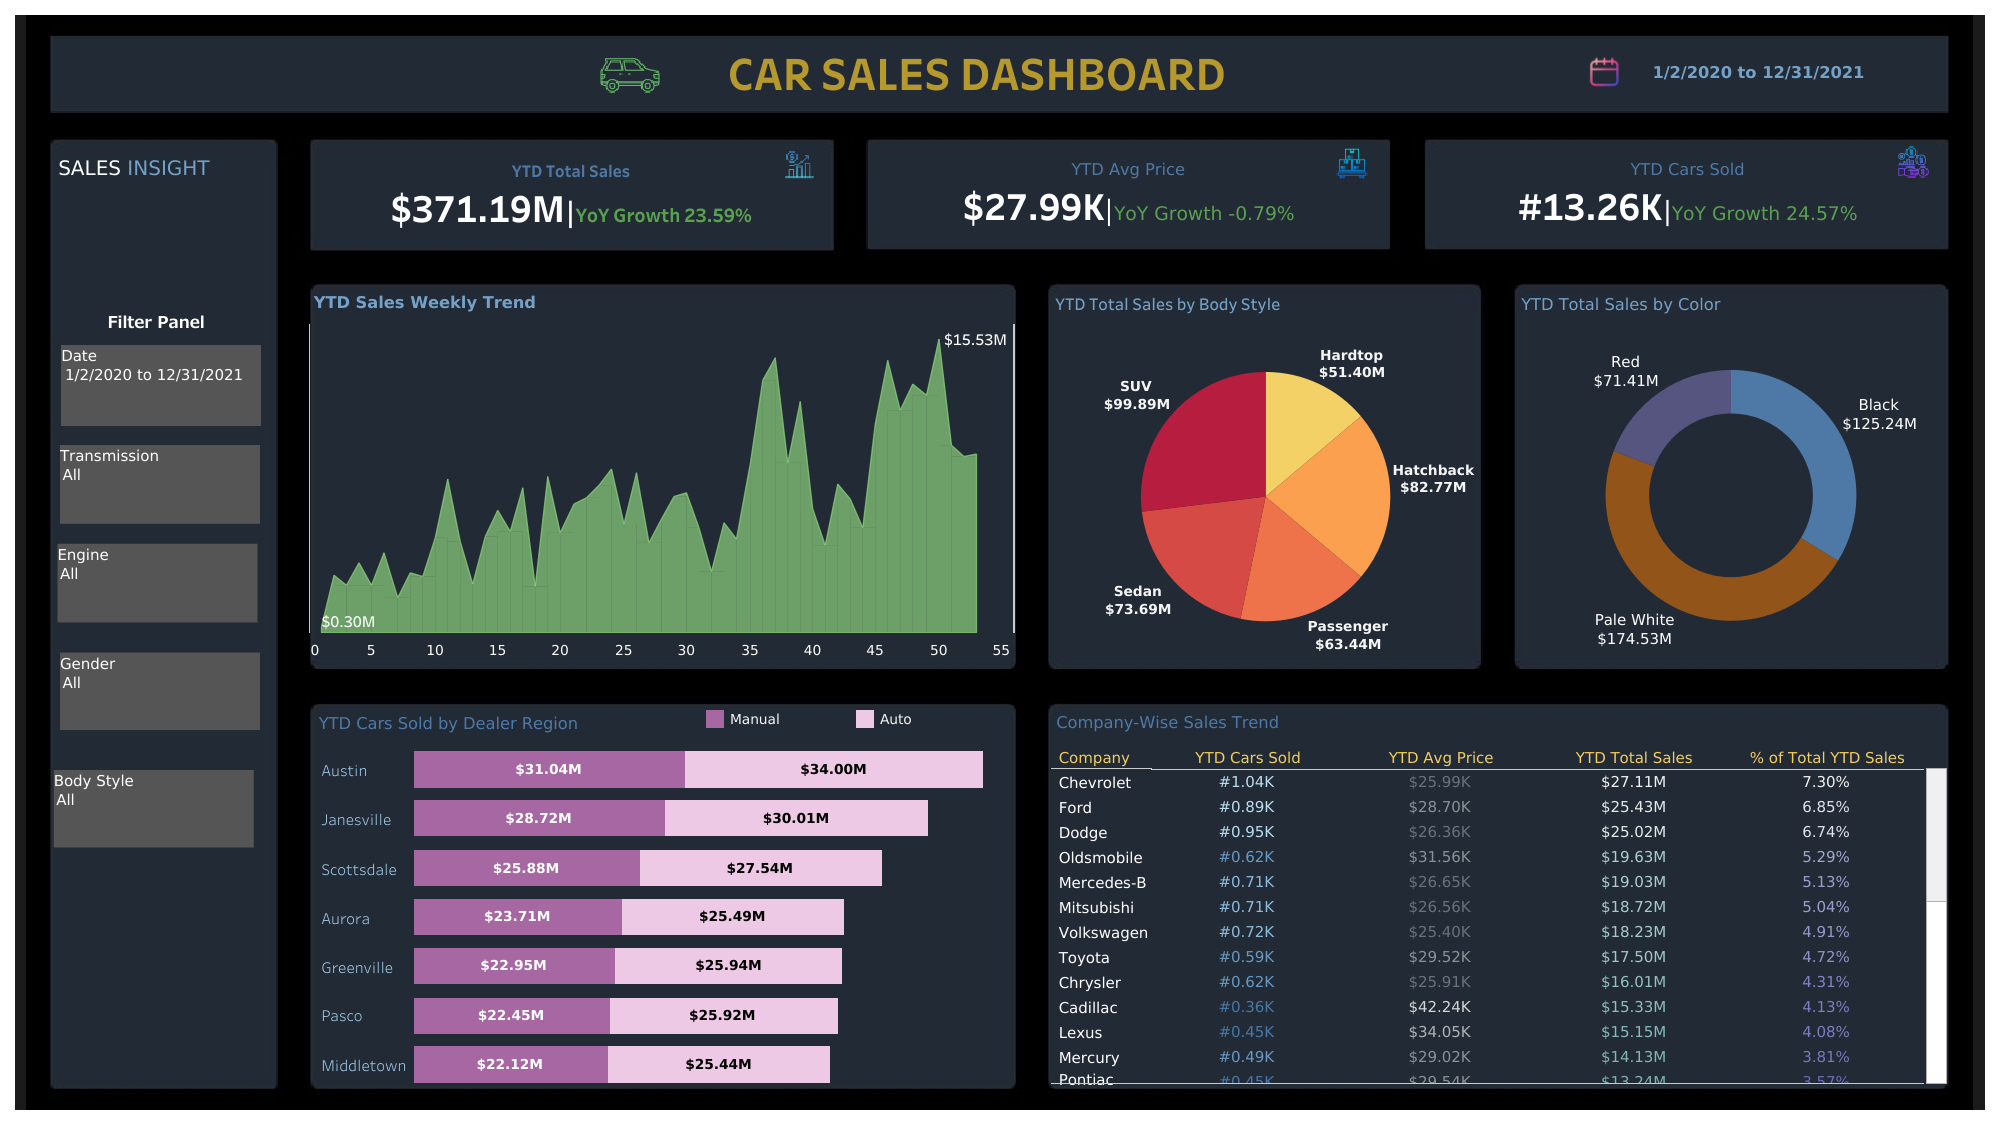

The dashboard page shown, as its layout file describes it:
{"tool":"tableau","page":{"name":"Dashboard 1","canvas":[1600,900],"ordinal":0},"visuals":[{"type":"image","param":"D:/Tableau/Car Sales - Tableau/Car Sales Background.jpg","box":[8,8,1584,884]},{"type":"text","box":[533,28,497,58]},{"type":"worksheet","title":"Date Range","mark":"Automatic","box":[1260,28,294,60]},{"type":"image","param":"D:/Tableau/Car Sales - Tableau/Images Used/Car Icon.png","box":[476,32,59,56]},{"type":"image","param":"D:/Tableau/Car Sales - Tableau/Images Used/calendar.png","box":[1271,45,33,25]},{"type":"worksheet","title":"YTD Avg Price","mark":"Automatic","box":[695,112,416,88]},{"type":"worksheet","title":"YTD Total Sales ","mark":"Automatic","box":[250,113,414,87]},{"type":"worksheet","title":"YTD Car Sold","mark":"Automatic","box":[1142,113,417,85]},{"type":"image","param":"D:/Tableau/Car Sales - Tableau/Images Used/Cars Sold Icon.png","box":[1518,117,33,25]},{"type":"image","param":"D:/Tableau/Car Sales - Tableau/Images Used/Avg Price Icon.png","box":[1069,118,33,25]},{"type":"text","box":[44,119,174,30]},{"type":"image","param":"D:/Tableau/Car Sales - Tableau/Images Used/Sales Icon.png","box":[627,119,33,25]},{"type":"worksheet","title":"YTD Sales Weekly Trend","mark":"Area","rows":["Calculation_761952765768716289","Calculation_761952765768716289"],"cols":["Date"],"box":[247,227,565,310]},{"type":"worksheet","title":"YTD Total Sales by Body Style","mark":"Pie","box":[840,227,345,307]},{"type":"worksheet","title":"YTD Total Sales by Color","mark":"Pie","rows":["Calculation_1018376470979878913","Calculation_1018376470979923971"],"box":[1213,229,344,303]},{"type":"text","box":[38,241,174,30]},{"type":"filter","title":"YTD Sales Weekly Trend","param":"[federated.1u8pwwm04ccv0f1czedpr1une495].[none:Date:qk]","box":[49,276,160,65]},{"type":"filter","title":"YTD Sales Weekly Trend","param":"[federated.1u8pwwm04ccv0f1czedpr1une495].[none:Transmission:nk]","box":[48,356,160,63]},{"type":"filter","title":"YTD Sales Weekly Trend","param":"[federated.1u8pwwm04ccv0f1czedpr1une495].[none:Engine:nk]","box":[46,435,160,63]},{"type":"filter","title":"YTD Sales Weekly Trend","param":"[federated.1u8pwwm04ccv0f1czedpr1une495].[none:Gender:nk]","box":[48,522,160,62]},{"type":"worksheet","title":"Company-Wise Sales Trend","mark":"Automatic","rows":["Company"],"box":[841,563,717,305]},{"type":"worksheet","title":"YTD Cars Sold by Dealer Region","mark":"Automatic","rows":["Dealer_Region"],"cols":["Calculation_761952765768716289"],"box":[251,564,558,307]},{"type":"legend","title":"YTD Cars Sold by Dealer Region","param":"[federated.1u8pwwm04ccv0f1czedpr1une495].[none:Transmission:nk]","box":[562,565,250,39]},{"type":"filter","title":"YTD Sales Weekly Trend","param":"[federated.1u8pwwm04ccv0f1czedpr1une495].[none:Body Style:nk]","box":[43,616,160,62]}]}

Visuals, with their boxes in screenshot pixels (x1, y1, x2, y2), scaled from the page's 1600x900 canvas onto the 1999x1124 screenshot:
image: l=10, t=10, r=1989, b=1114
text: l=666, t=35, r=1287, b=107
"Date Range" worksheet: l=1574, t=35, r=1942, b=110
image: l=595, t=40, r=668, b=110
image: l=1588, t=56, r=1629, b=87
"YTD Avg Price" worksheet: l=868, t=140, r=1388, b=250
"YTD Total Sales " worksheet: l=312, t=141, r=830, b=250
"YTD Car Sold" worksheet: l=1427, t=141, r=1948, b=247
image: l=1897, t=146, r=1938, b=177
image: l=1336, t=147, r=1377, b=179
text: l=55, t=149, r=272, b=186
image: l=783, t=149, r=825, b=180
"YTD Sales Weekly Trend" worksheet (Area marks): l=309, t=283, r=1014, b=671
"YTD Total Sales by Body Style" worksheet (Pie marks): l=1049, t=283, r=1481, b=667
"YTD Total Sales by Color" worksheet (Pie marks): l=1515, t=286, r=1945, b=664
text: l=47, t=301, r=265, b=338
"YTD Sales Weekly Trend" filter: l=61, t=345, r=261, b=426
"YTD Sales Weekly Trend" filter: l=60, t=445, r=260, b=523
"YTD Sales Weekly Trend" filter: l=57, t=543, r=257, b=622
"YTD Sales Weekly Trend" filter: l=60, t=652, r=260, b=729
"Company-Wise Sales Trend" worksheet: l=1051, t=703, r=1947, b=1084
"YTD Cars Sold by Dealer Region" worksheet: l=314, t=704, r=1011, b=1088
"YTD Cars Sold by Dealer Region" legend: l=702, t=706, r=1014, b=754
"YTD Sales Weekly Trend" filter: l=54, t=769, r=254, b=847
